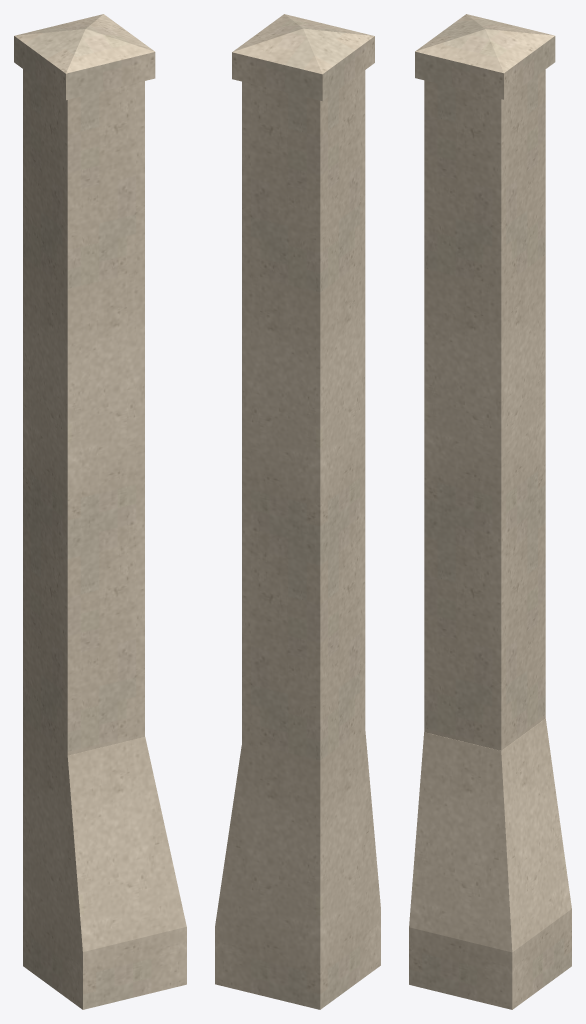
The model's file is c_corner.glb.
3 views of the same model, side by side, from view 1: azimuth 30°, elevation 25°; view 2: azimuth 150°, elevation 25°; view 3: azimuth 330°, elevation 25° (orthographic).
Visible parts, largest first — view 1: c_corner_render; view 2: c_corner_render; view 3: c_corner_render.
Boxes of the visible parts, x1,y1,x2,y2 form: c_corner_render: [14, 14, 186, 1009]; c_corner_render: [215, 14, 380, 1009]; c_corner_render: [409, 14, 571, 1009].
Bounding box in the file's own units: 0.495 × 4.08 × 0.495.
1 material, 1 textured.
